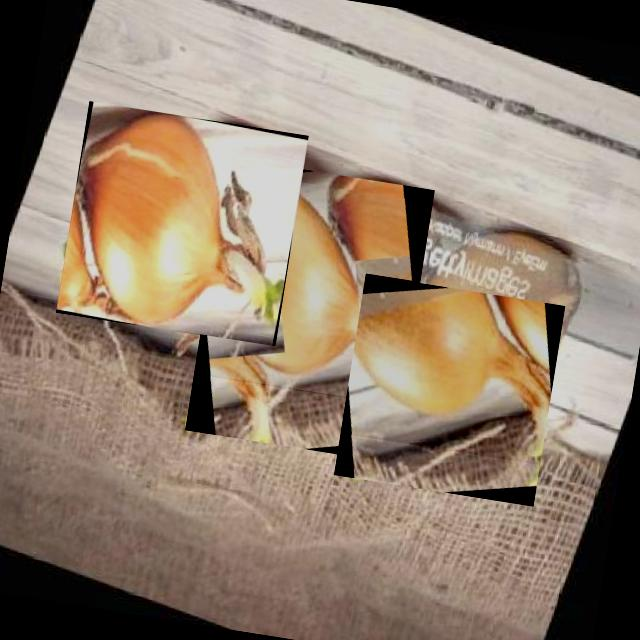sprouting: (208, 176, 406, 406), (78, 114, 284, 325), (353, 291, 551, 464), (529, 466, 540, 486)
